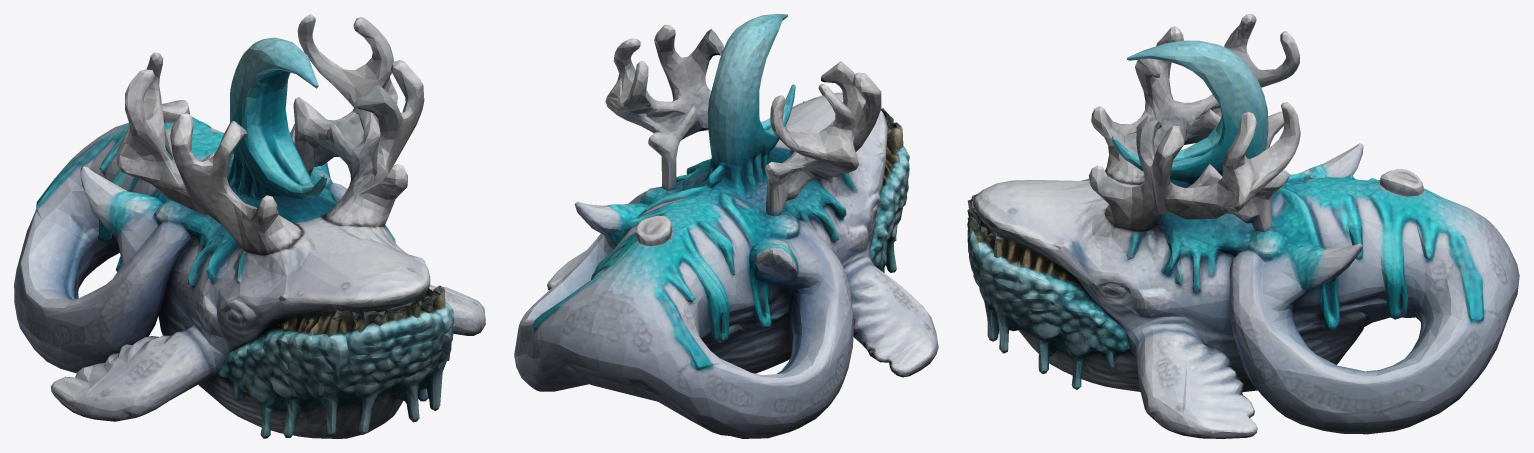
Rendered from sunkenhorn__moonwaleStag.glb.
3 renders of one model, left to right at view 1: azimuth 30°, elevation 25°; view 2: azimuth 150°, elevation 25°; view 3: azimuth 270°, elevation 25°, orthographic. The views are drawn at different scales.
Visible parts, largest first — view 1: world; view 2: world; view 3: world.
Part boxes in pixels (<box>): world: <box>14,14,485,438</box>; world: <box>514,14,938,438</box>; world: <box>967,14,1519,438</box>.
Bounding box in the file's own units: 0.8032 × 0.6645 × 0.9988.
Materials: 1 (1 with a texture image).
